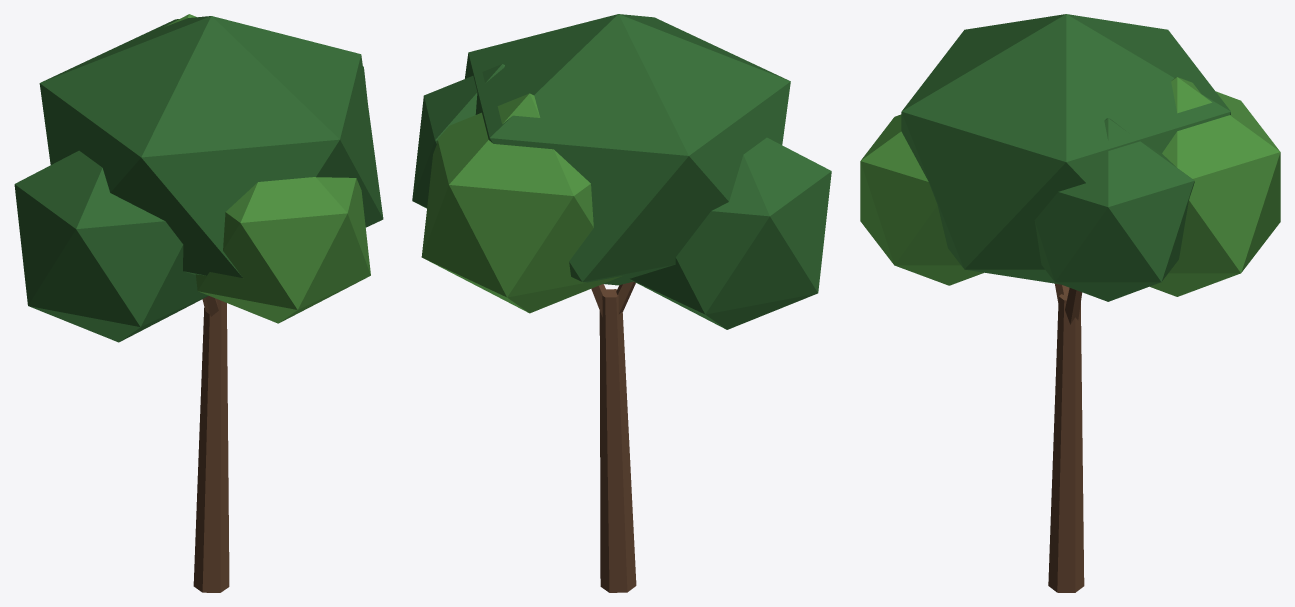
File: tree_b.glb
3 renders of one model, left to right at view 1: azimuth 30°, elevation 25°; view 2: azimuth 150°, elevation 25°; view 3: azimuth 270°, elevation 25°, orthographic.
Parts seen in each view (by area): view 1: tree_b; view 2: tree_b; view 3: tree_b.
Part boxes in pixels (x1,y1,x2,y2): tree_b: (14,14,383,592); tree_b: (412,14,831,592); tree_b: (860,14,1280,592).
Size of the model in its own units: 6.11 by 9.14 by 6.08.
